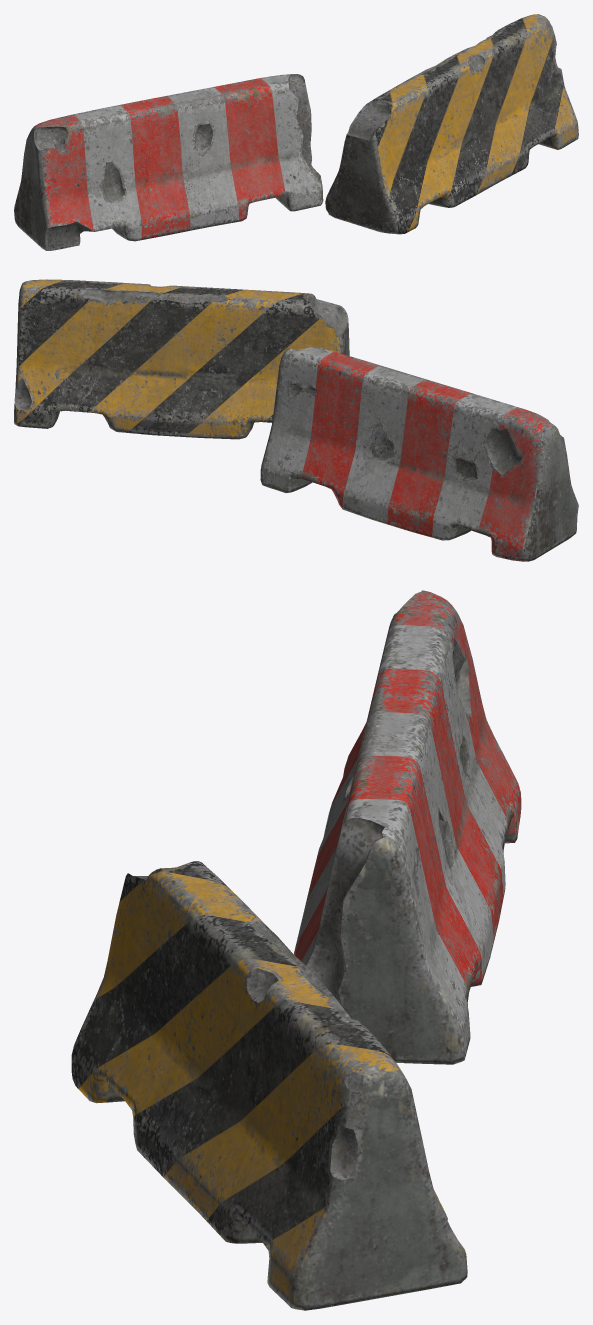
The model's file is weathered_concrete_barriers.glb.
3 renders of one model, top to bottom at view 1: azimuth 30°, elevation 25°; view 2: azimuth 150°, elevation 25°; view 3: azimuth 270°, elevation 25°, orthographic. The views are drawn at different scales.
Visible parts, largest first — view 1: concrete_barriers_barrier_red, concrete_barriers_barrier_yellow_weathered_concrete_barriers; view 2: concrete_barriers_barrier_red, concrete_barriers_barrier_yellow_weathered_concrete_barriers; view 3: concrete_barriers_barrier_yellow_weathered_concrete_barriers, concrete_barriers_barrier_red.
Boxes of the visible parts, x1,y1,x2,y2 form: concrete_barriers_barrier_red: (14, 74, 323, 250); concrete_barriers_barrier_yellow_weathered_concrete_barriers: (325, 14, 578, 234); concrete_barriers_barrier_red: (260, 347, 578, 561); concrete_barriers_barrier_yellow_weathered_concrete_barriers: (14, 279, 349, 439); concrete_barriers_barrier_yellow_weathered_concrete_barriers: (71, 861, 467, 1310); concrete_barriers_barrier_red: (294, 590, 521, 1064).
Size of the model in its own units: 3.97 by 0.8298 by 1.49.
1 material, 1 textured.
